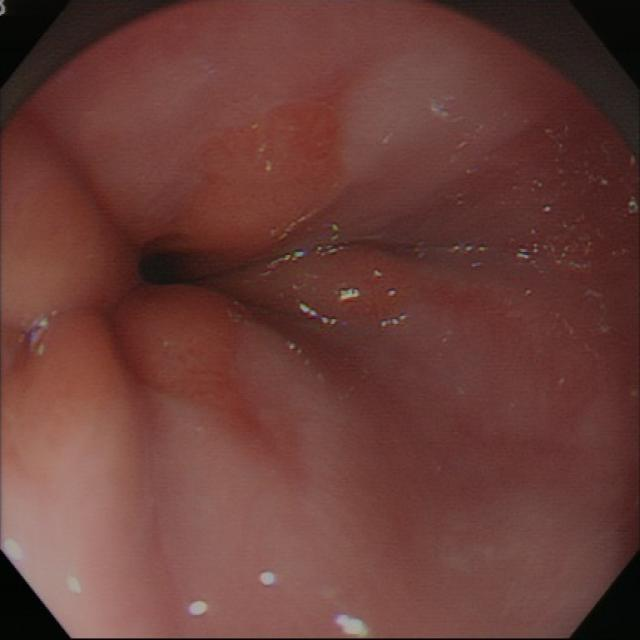I: (84, 146, 307, 419)
U: (539, 204, 601, 275), (267, 225, 349, 272), (451, 241, 542, 266), (16, 314, 64, 356), (295, 302, 342, 331), (333, 610, 372, 638), (432, 93, 466, 120), (372, 267, 399, 300), (378, 312, 411, 333), (4, 538, 26, 563), (185, 597, 209, 619), (337, 283, 363, 303), (66, 574, 84, 597), (259, 571, 277, 591)
